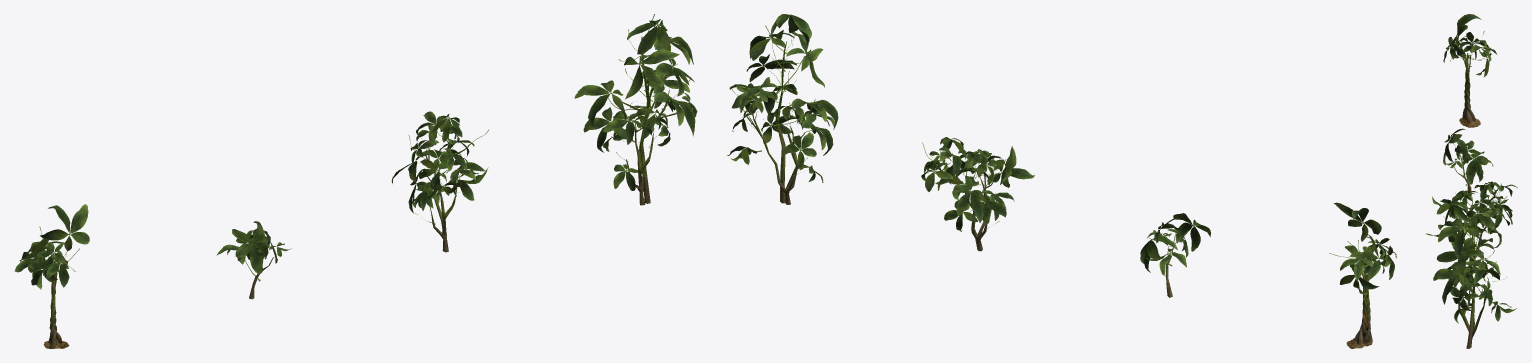
Rendered from pachira_aquatica_01.glb.
3 views of the same model, side by side, from view 1: azimuth 30°, elevation 25°; view 2: azimuth 150°, elevation 25°; view 3: azimuth 270°, elevation 25° (orthographic). The views are drawn at different scales.
Parts seen in each view (by area): view 1: pachira_aquatica_01_leaves_d, pachira_aquatica_01_leaves_c, pachira_aquatica_01_leaves_a, pachira_aquatica_01_leaves_b, pachira_aquatica_01_bark_d, pachira_aquatica_01_bark_c, pachira_aquatica_01_bark_a; view 2: pachira_aquatica_01_leaves_d, pachira_aquatica_01_leaves_c, pachira_aquatica_01_leaves_a, pachira_aquatica_01_leaves_b, pachira_aquatica_01_bark_d, pachira_aquatica_01_bark_a; view 3: pachira_aquatica_01_leaves_d, pachira_aquatica_01_leaves_c, pachira_aquatica_01_leaves_a, pachira_aquatica_01_leaves_b, pachira_aquatica_01_bark_d, pachira_aquatica_01_bark_a, pachira_aquatica_01_bark_c, pachira_aquatica_01_bark_b.
Part boxes in pixels (x1,y1,x2,y2): pachira_aquatica_01_leaves_d: [574, 14, 697, 190]; pachira_aquatica_01_leaves_c: [391, 111, 489, 224]; pachira_aquatica_01_leaves_a: [14, 204, 89, 289]; pachira_aquatica_01_leaves_b: [216, 221, 291, 281]; pachira_aquatica_01_bark_d: [622, 36, 676, 205]; pachira_aquatica_01_bark_c: [425, 138, 471, 252]; pachira_aquatica_01_bark_a: [43, 260, 69, 348]; pachira_aquatica_01_leaves_d: [727, 14, 838, 182]; pachira_aquatica_01_leaves_c: [921, 137, 1034, 231]; pachira_aquatica_01_leaves_a: [1329, 202, 1396, 294]; pachira_aquatica_01_leaves_b: [1140, 213, 1210, 276]; pachira_aquatica_01_bark_d: [742, 41, 805, 204]; pachira_aquatica_01_bark_a: [1346, 257, 1372, 348]; pachira_aquatica_01_leaves_d: [1425, 201, 1516, 323]; pachira_aquatica_01_leaves_c: [1432, 181, 1517, 247]; pachira_aquatica_01_leaves_a: [1443, 14, 1496, 76]; pachira_aquatica_01_leaves_b: [1443, 128, 1493, 185]; pachira_aquatica_01_bark_d: [1458, 216, 1496, 348]; pachira_aquatica_01_bark_a: [1459, 53, 1480, 127]; pachira_aquatica_01_bark_c: [1458, 194, 1501, 266]; pachira_aquatica_01_bark_b: [1454, 153, 1471, 196].
Size of the model in its own units: 6.84 by 1.82 by 1.05.
Materials: 2 (2 with a texture image).
